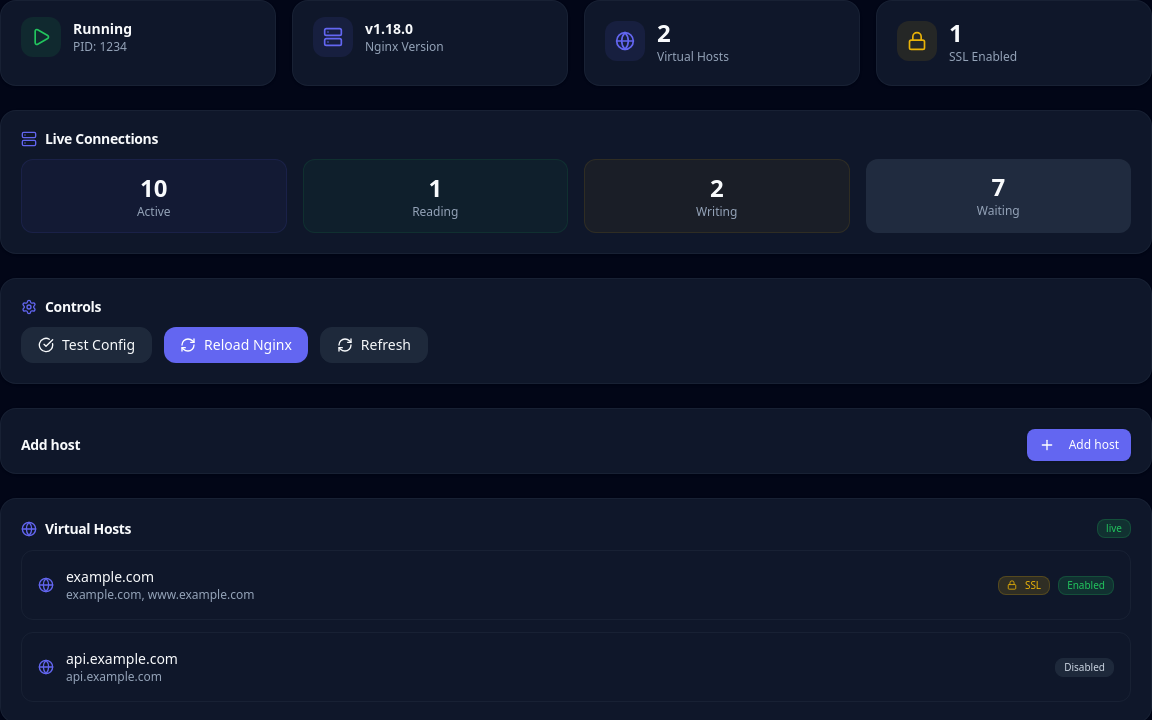
Test: NginxPage › expands virtual host details
Click the text "example.com" at (110, 577), box [66,567,154,586]
(page scrolled)
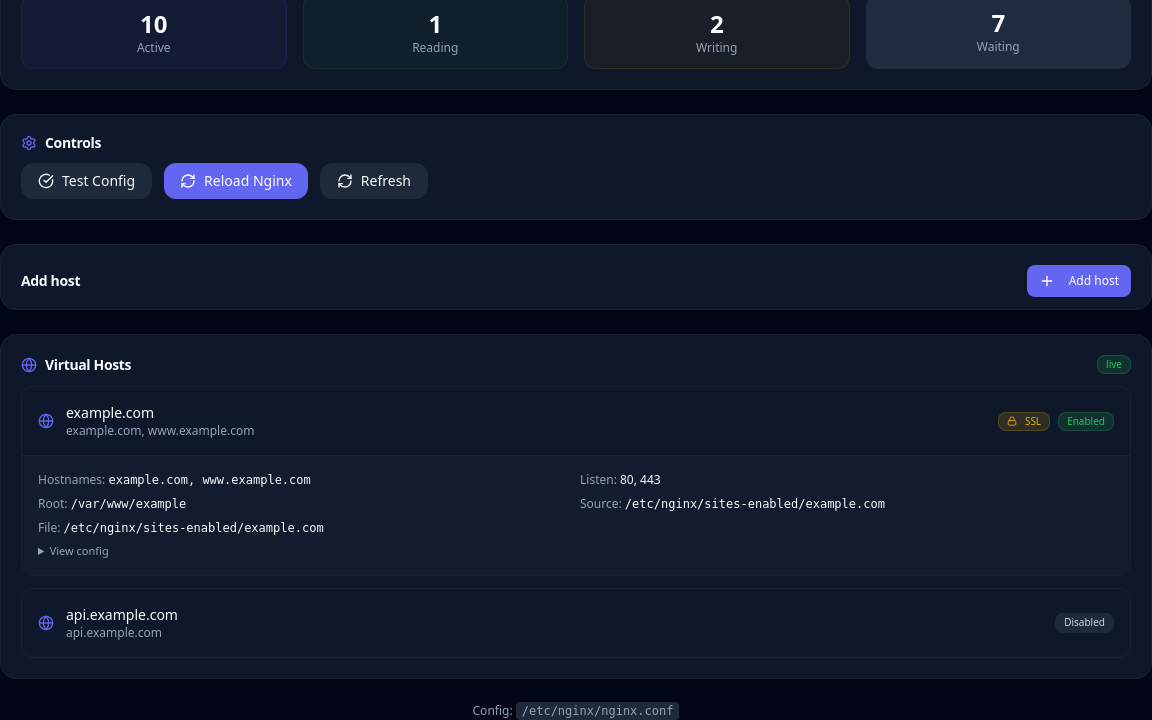
Now the text "Listen:" is shown, box [580,471,617,488]
Now the text "80, 443" is shown, box [620,471,661,488]
Now the text "Root:" is shown, box [38,495,68,512]
